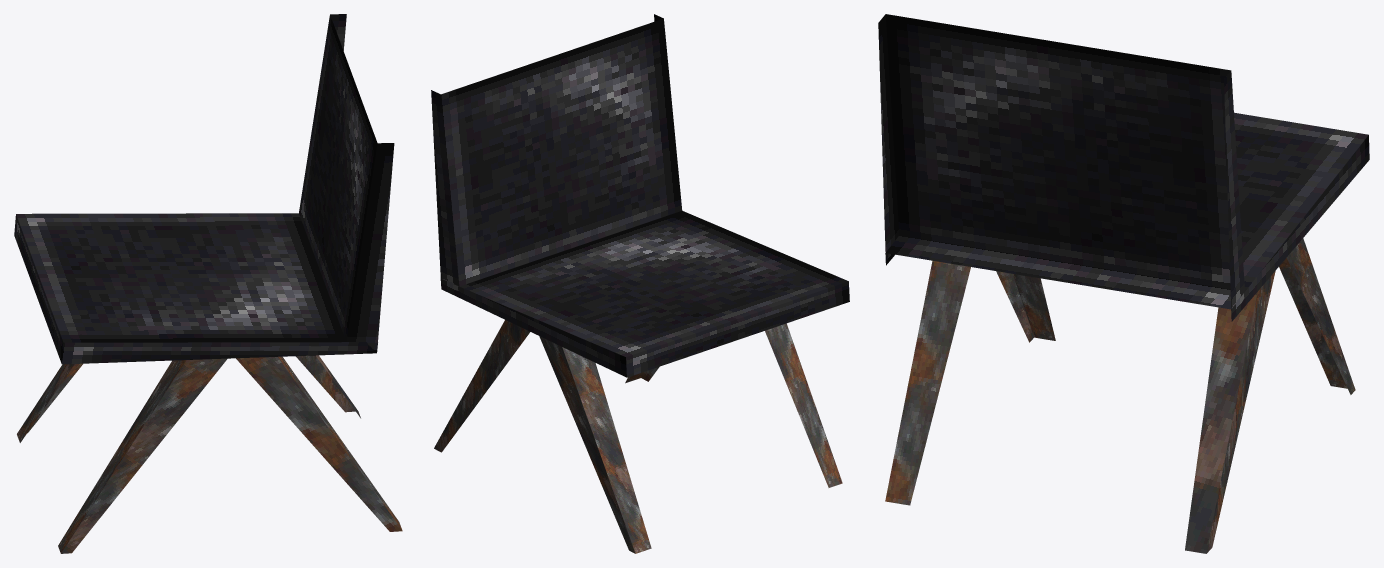
The model's file is black_chair_5.glb.
3 renders of one model, left to right at view 1: azimuth 30°, elevation 25°; view 2: azimuth 150°, elevation 25°; view 3: azimuth 270°, elevation 25°, orthographic. The views are drawn at different scales.
Visible parts, largest first — view 1: Object; view 2: Object; view 3: Object.
Part boxes in pixels (<box>): Object: <box>14,14,402,553</box>; Object: <box>431,14,849,553</box>; Object: <box>878,14,1369,553</box>.
Bounding box in the file's own units: 0.8839 × 0.8928 × 0.8407.
2 materials, 2 textured.
